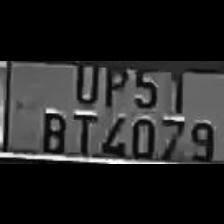0: (125, 113, 156, 159)
1: (162, 61, 198, 112)
4: (96, 108, 128, 156)
5: (127, 60, 159, 108)
7: (155, 114, 184, 160)
9: (184, 116, 216, 160)
B: (35, 108, 69, 152)
P: (100, 60, 128, 108)
T: (68, 110, 96, 154)
U: (68, 60, 100, 106)
